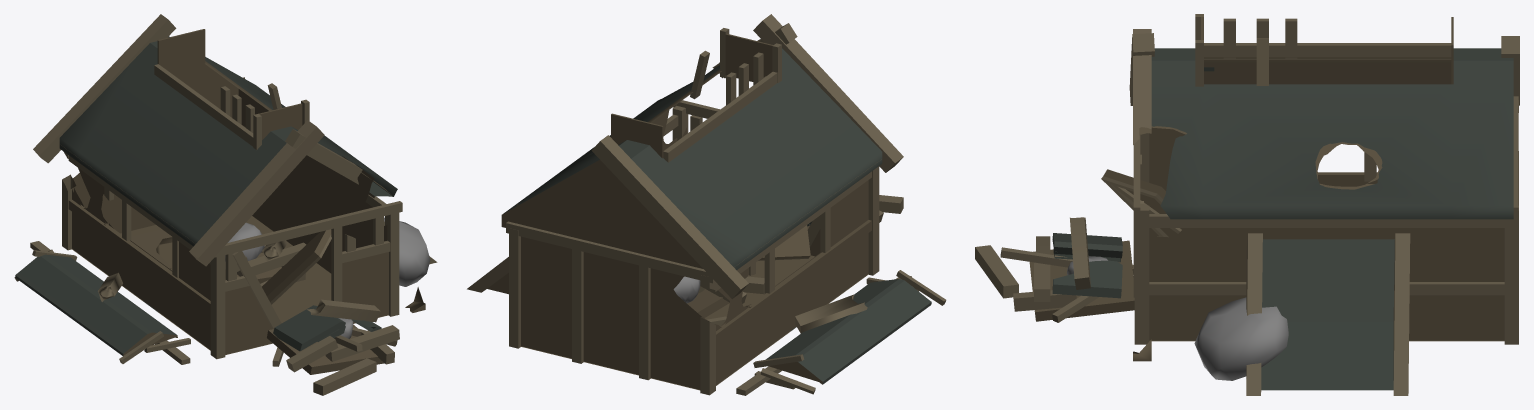
File: Maison_ruine.fbx
3 views of the same model, side by side, from view 1: azimuth 30°, elevation 25°; view 2: azimuth 150°, elevation 25°; view 3: azimuth 270°, elevation 25° (orthographic). The views are drawn at different scales.
Parts seen in each view (by area): view 1: maison_ruine; view 2: maison_ruine; view 3: maison_ruine.
Boxes of the visible parts, left/top/right/bottom form: maison_ruine: left=14, top=14, right=437, bottom=395; maison_ruine: left=467, top=14, right=946, bottom=395; maison_ruine: left=975, top=14, right=1519, bottom=395.
Bounding box in the file's own units: 119 × 71.78 × 131.
